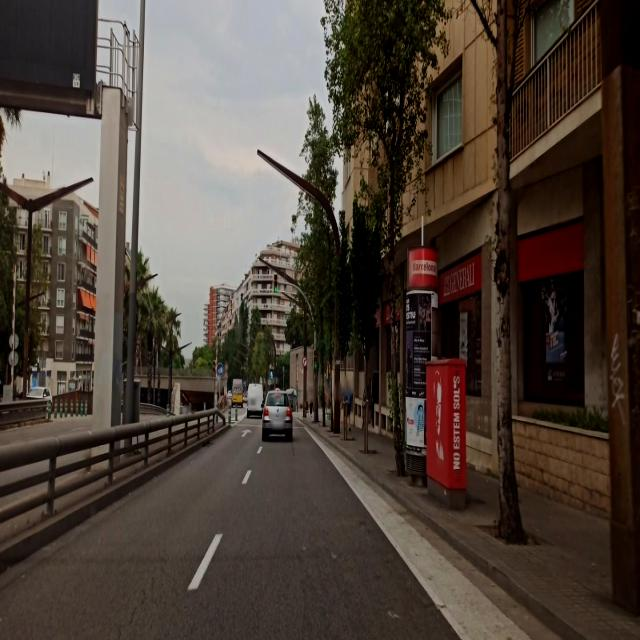car: (262, 388, 294, 443), (246, 383, 264, 417)
